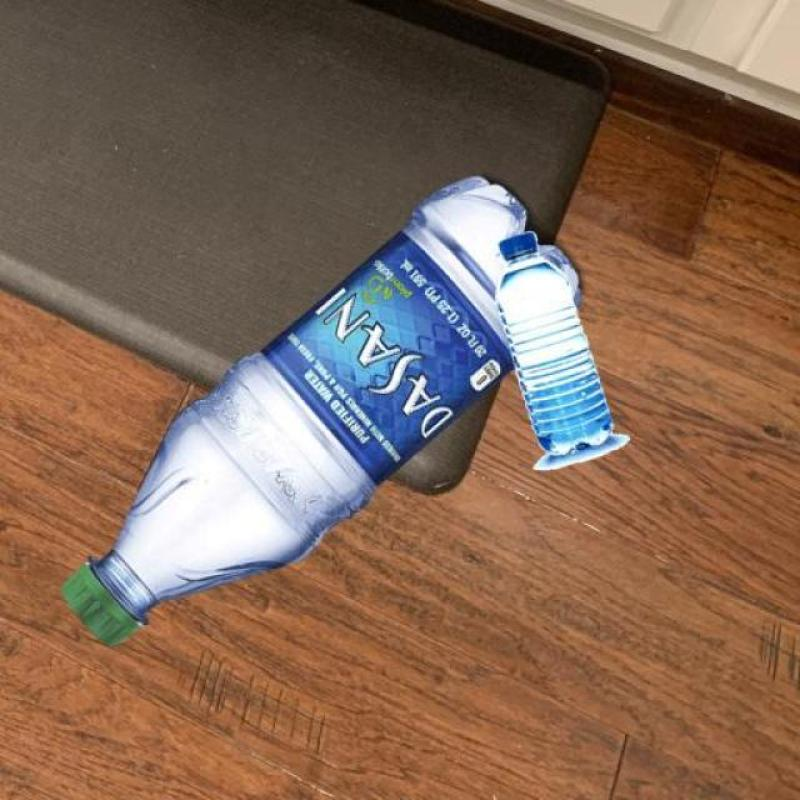botella: (61, 175, 584, 647), (496, 231, 614, 460)
